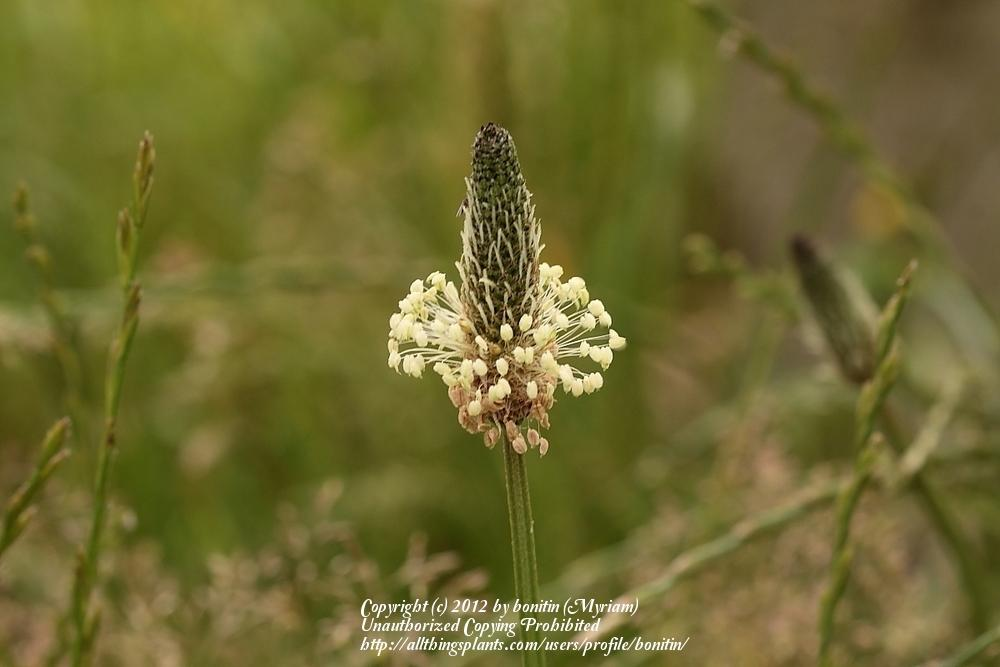buckhorn plantain: (404, 117, 627, 502)
